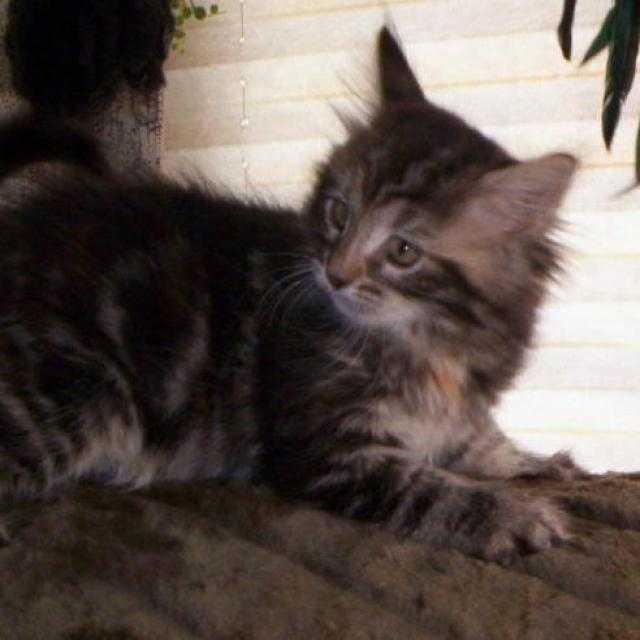cats: (0, 26, 578, 560)
